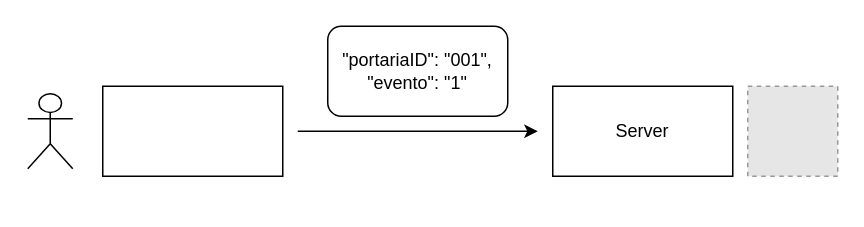
Some shapes in this 864 by 227 pixel diagram are drawn without their labels. Grey dashed boxes stand in for pictures. Each missing label, with the centre of its shape:
Embedded System: the point at 192,130
Porter: the point at 49,130
